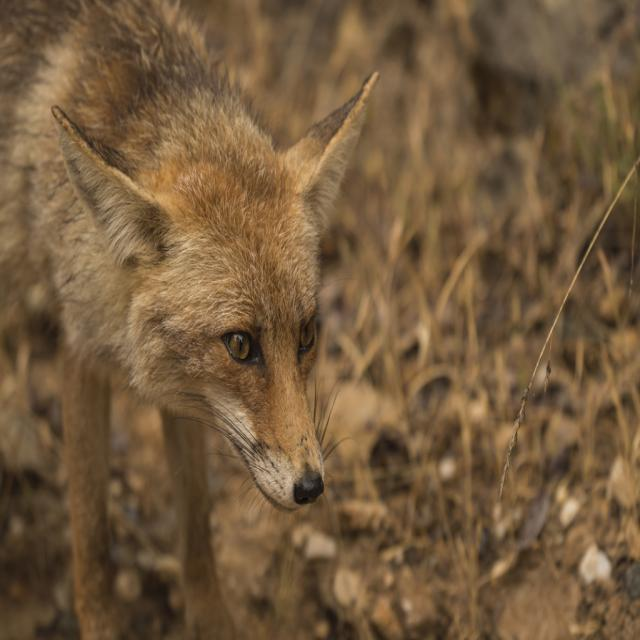fox: (53, 25, 426, 555)
